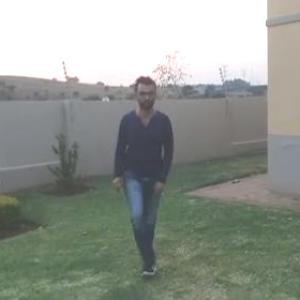follow: (113, 69, 178, 278)
